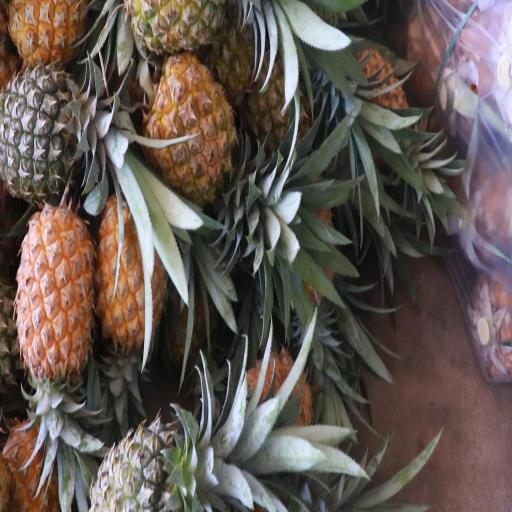Pineapple - v8 v1: (149, 52, 266, 192), (18, 191, 90, 404), (98, 193, 169, 356)
